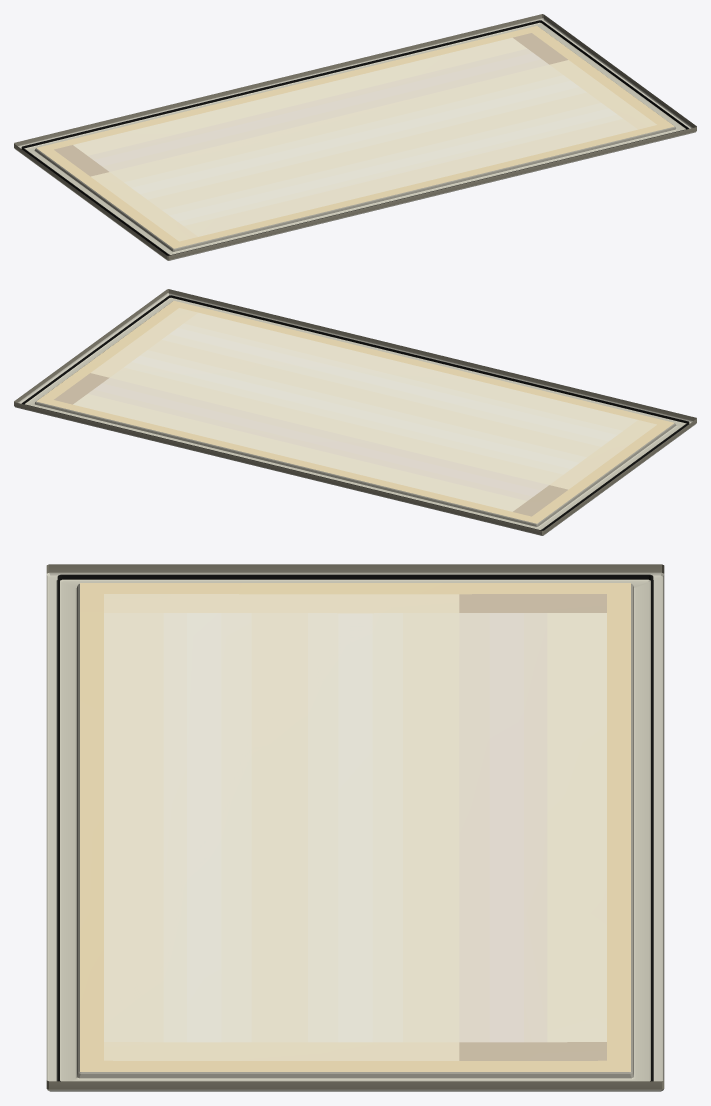
Rendered from troffer@1.glb.
The picture shows the model from 3 angles, top to bottom: view 1: azimuth 30°, elevation 25°; view 2: azimuth 150°, elevation 25°; view 3: azimuth 270°, elevation 25°; orthographic projection. The views are drawn at different scales.
Parts seen in each view (by area): view 1: rasterleuchte; view 2: rasterleuchte; view 3: rasterleuchte.
Boxes of the visible parts, x1,y1,x2,y2 form: rasterleuchte: [14, 14, 696, 260]; rasterleuchte: [14, 289, 696, 535]; rasterleuchte: [46, 564, 664, 1091].
Bounding box in the file's own units: 1.21 × 0.0122 × 0.612.
